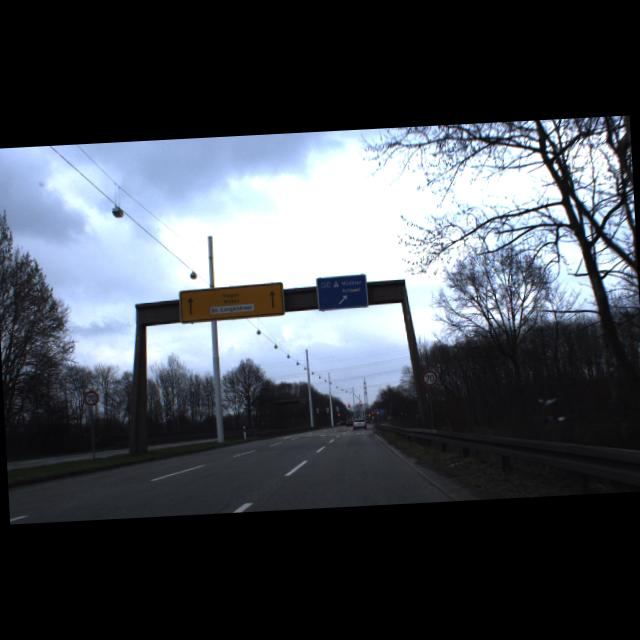prohibitory: (420, 370, 438, 388), (82, 389, 100, 406)
